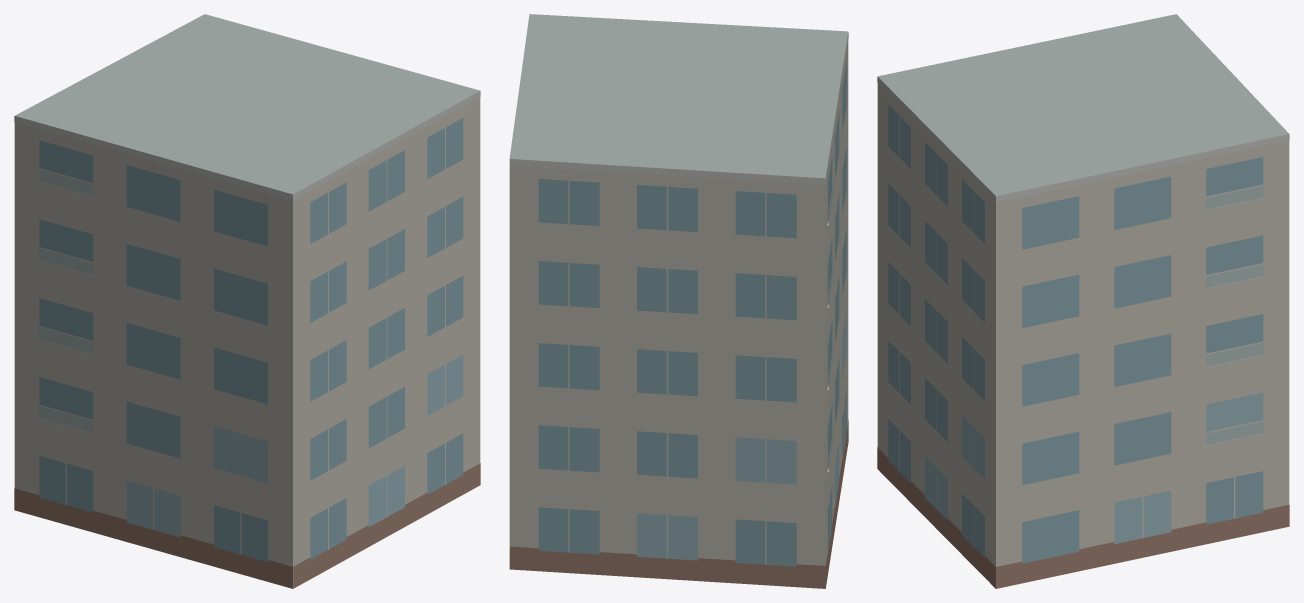
Rendered from survey-upis-33018349.glb.
3 renders of one model, left to right at view 1: azimuth 30°, elevation 25°; view 2: azimuth 150°, elevation 25°; view 3: azimuth 270°, elevation 25°, orthographic. The views are drawn at different scales.
Visible parts, largest first — view 1: survey-upis-33018349.tmp; view 2: survey-upis-33018349.tmp; view 3: survey-upis-33018349.tmp.
Boxes of the visible parts, x1,y1,x2,y2 form: survey-upis-33018349.tmp: [14, 14, 480, 588]; survey-upis-33018349.tmp: [509, 14, 848, 588]; survey-upis-33018349.tmp: [877, 14, 1289, 588].
Size of the model in its own units: 15.19 by 15.25 by 14.51.
